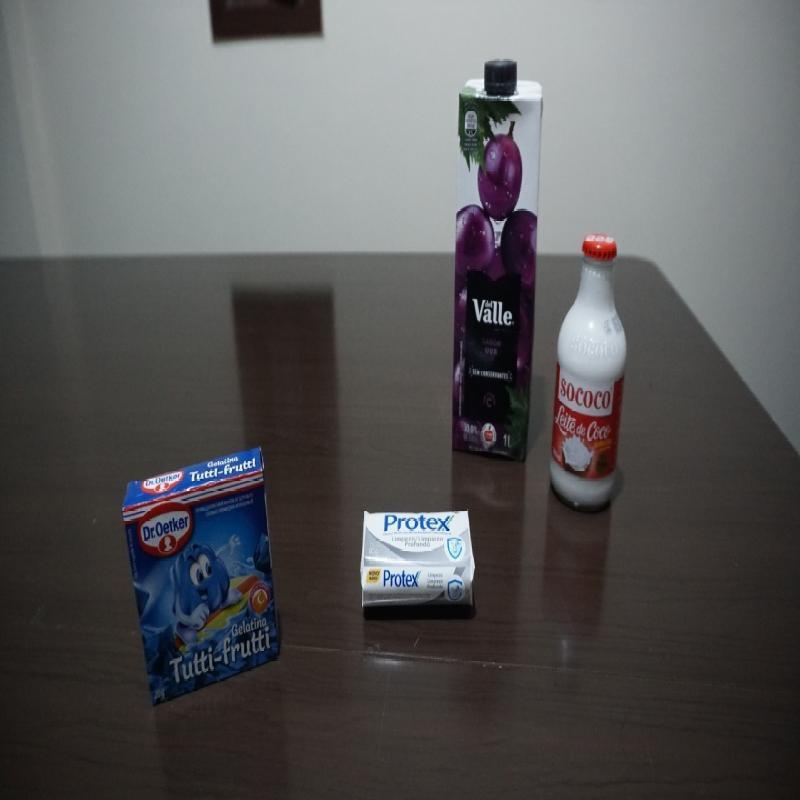Coconut Milk: (547, 233, 629, 515)
Gelatine: (120, 444, 282, 708)
Soap: (358, 506, 479, 616)
